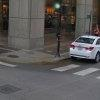Crosswalk: (49, 56, 94, 80)
